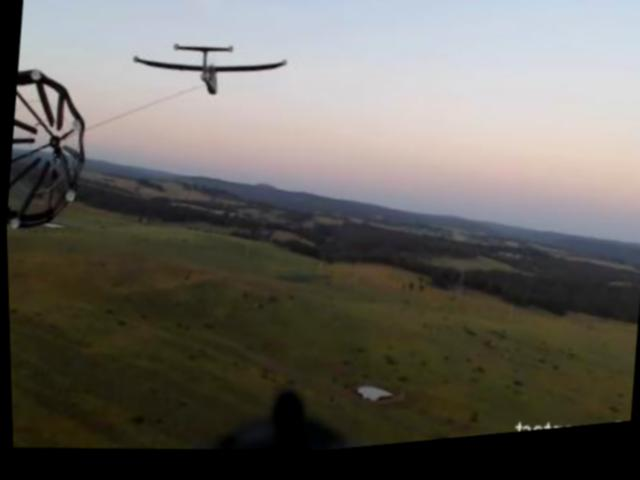uav: (126, 26, 293, 114)
